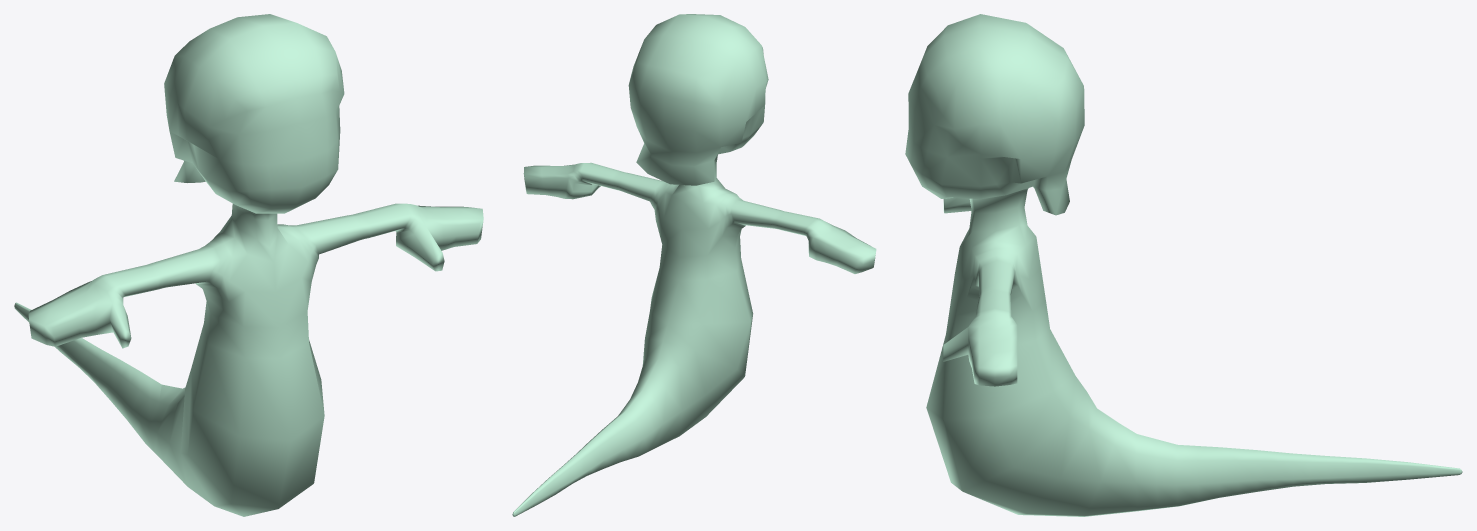
Rendered from player1_Tail_Tpose_weight.fbx.
3 views of the same model, side by side, from view 1: azimuth 30°, elevation 25°; view 2: azimuth 150°, elevation 25°; view 3: azimuth 270°, elevation 25° (orthographic). The views are drawn at different scales.
Parts seen in each view (by area): view 1: player1_Tpose3; view 2: player1_Tpose3; view 3: player1_Tpose3.
Boxes of the visible parts, left/top/right/bottom form: player1_Tpose3: left=14, top=14, right=483, bottom=516; player1_Tpose3: left=512, top=14, right=876, bottom=516; player1_Tpose3: left=905, top=14, right=1462, bottom=516.
Size of the model in its own units: 112 by 119 by 122.
